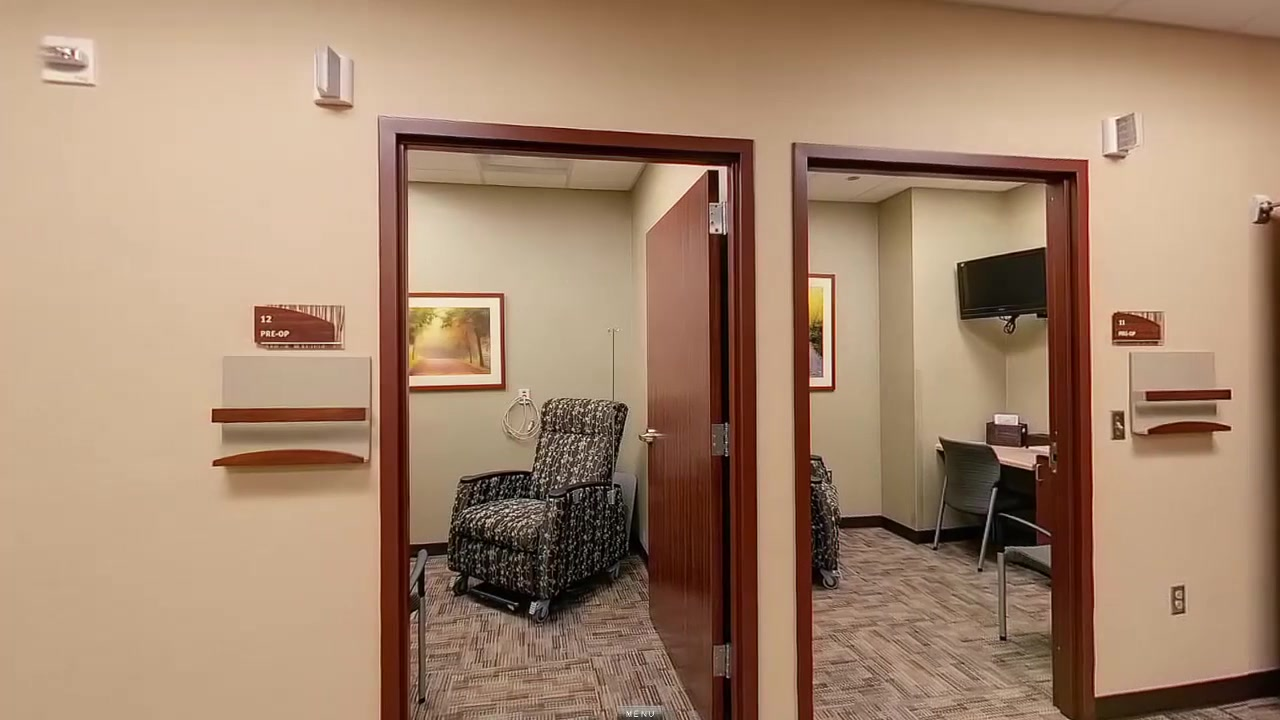TV: (957, 246, 1047, 321)
chair: (933, 436, 1033, 572), (995, 512, 1051, 641)
countertop: (935, 434, 1049, 471)
door_handle: (638, 429, 662, 444)
handle: (1034, 463, 1044, 483)
iv_pole: (607, 327, 623, 504)
light_switch: (1111, 409, 1127, 441)
sofa: (447, 398, 629, 623), (810, 455, 841, 589)
